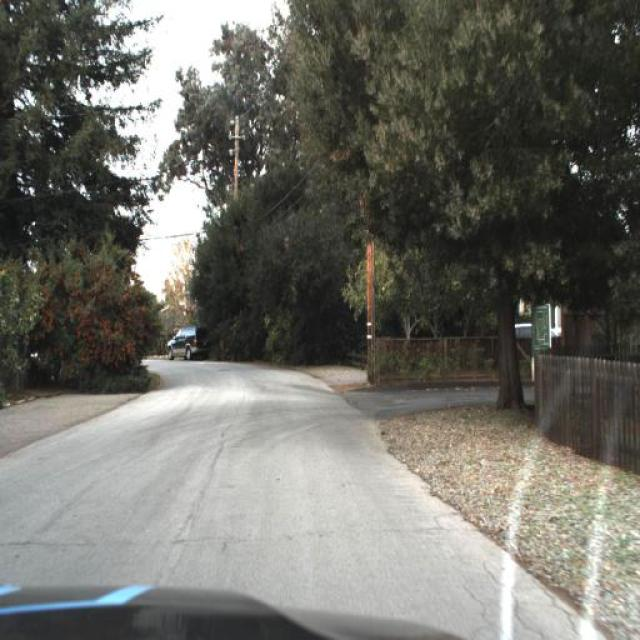car: (495, 305, 566, 346), (164, 316, 215, 372)
